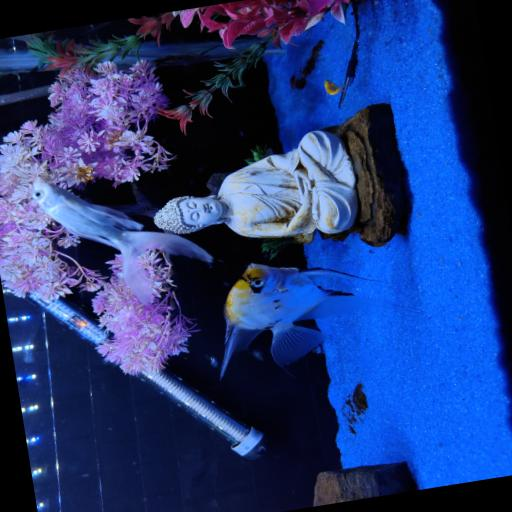Fish: (221, 263, 421, 376), (32, 180, 212, 303), (324, 79, 345, 94)
